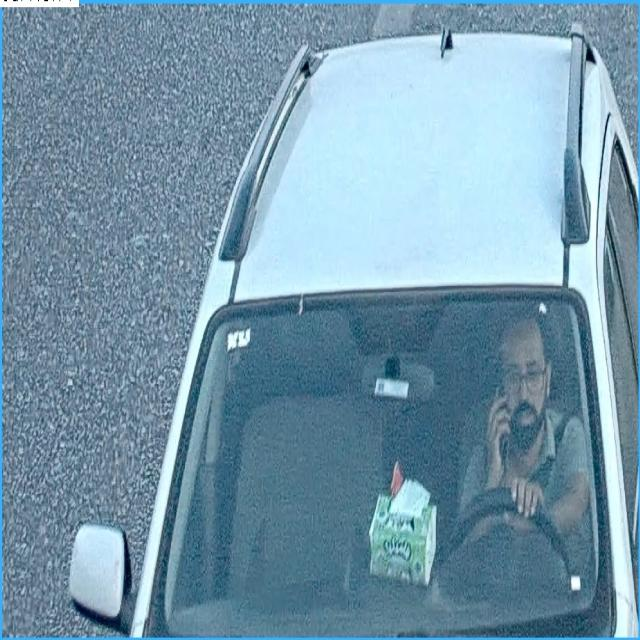windshield: (160, 301, 592, 634)
